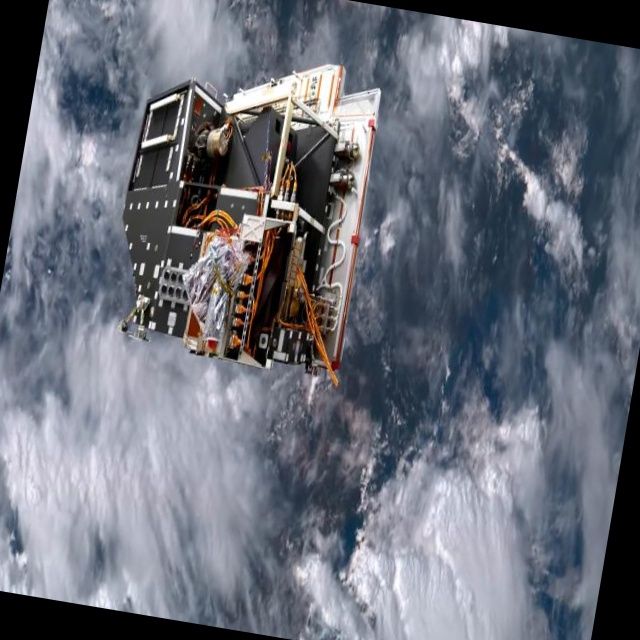medium_debris: (85, 17, 398, 405)
